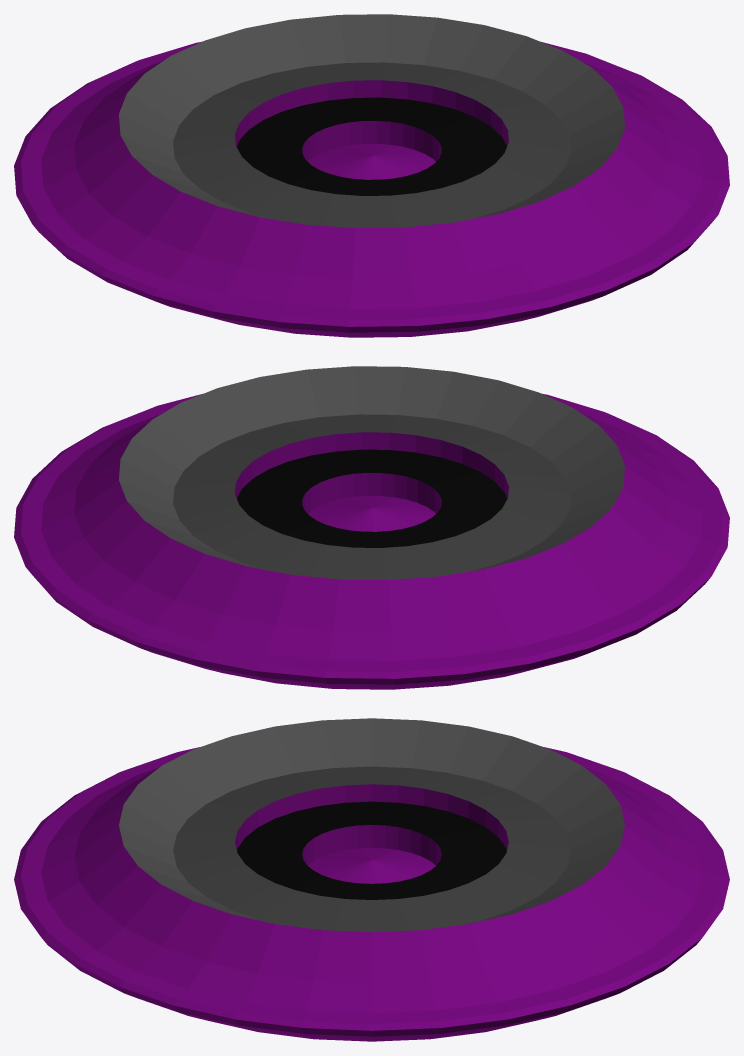
Rendered from SummoningRing.glb.
The picture shows the model from 3 angles, top to bottom: view 1: azimuth 30°, elevation 25°; view 2: azimuth 150°, elevation 25°; view 3: azimuth 270°, elevation 25°; orthographic projection.
Visible parts, largest first — view 1: Sphere; view 2: Sphere; view 3: Sphere.
Boxes of the visible parts, left/top/right/bottom form: Sphere: left=14, top=14, right=729, bottom=337; Sphere: left=14, top=366, right=729, bottom=689; Sphere: left=14, top=718, right=729, bottom=1041.
Size of the model in its own units: 2 by 0.3774 by 2.
